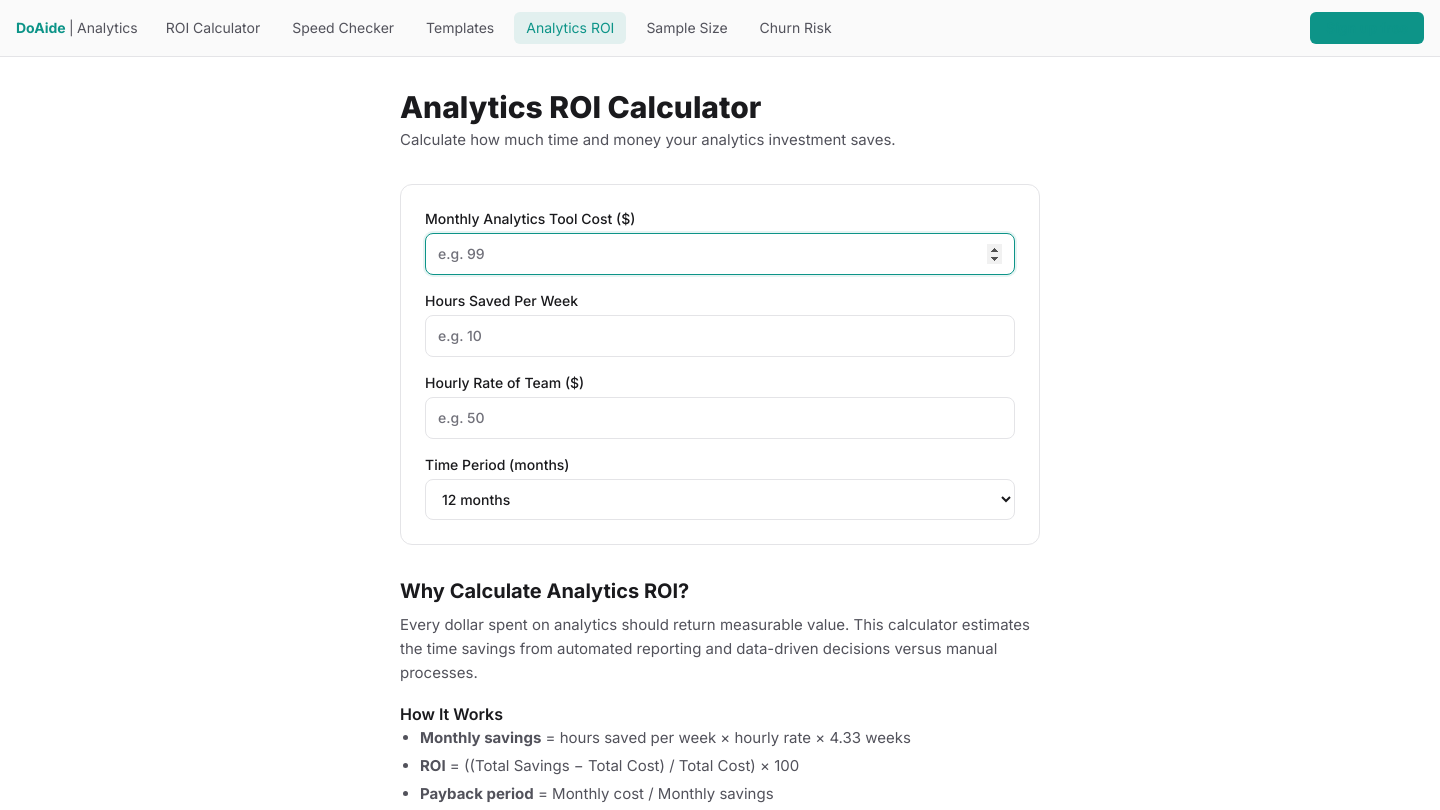
Test: RoiCalculator › shows results when valid inputs are provided
Type "100" into the number field labelled "Monthly Analytics Tool Cost ($)" at point(720, 254), box [425, 232, 1015, 274]
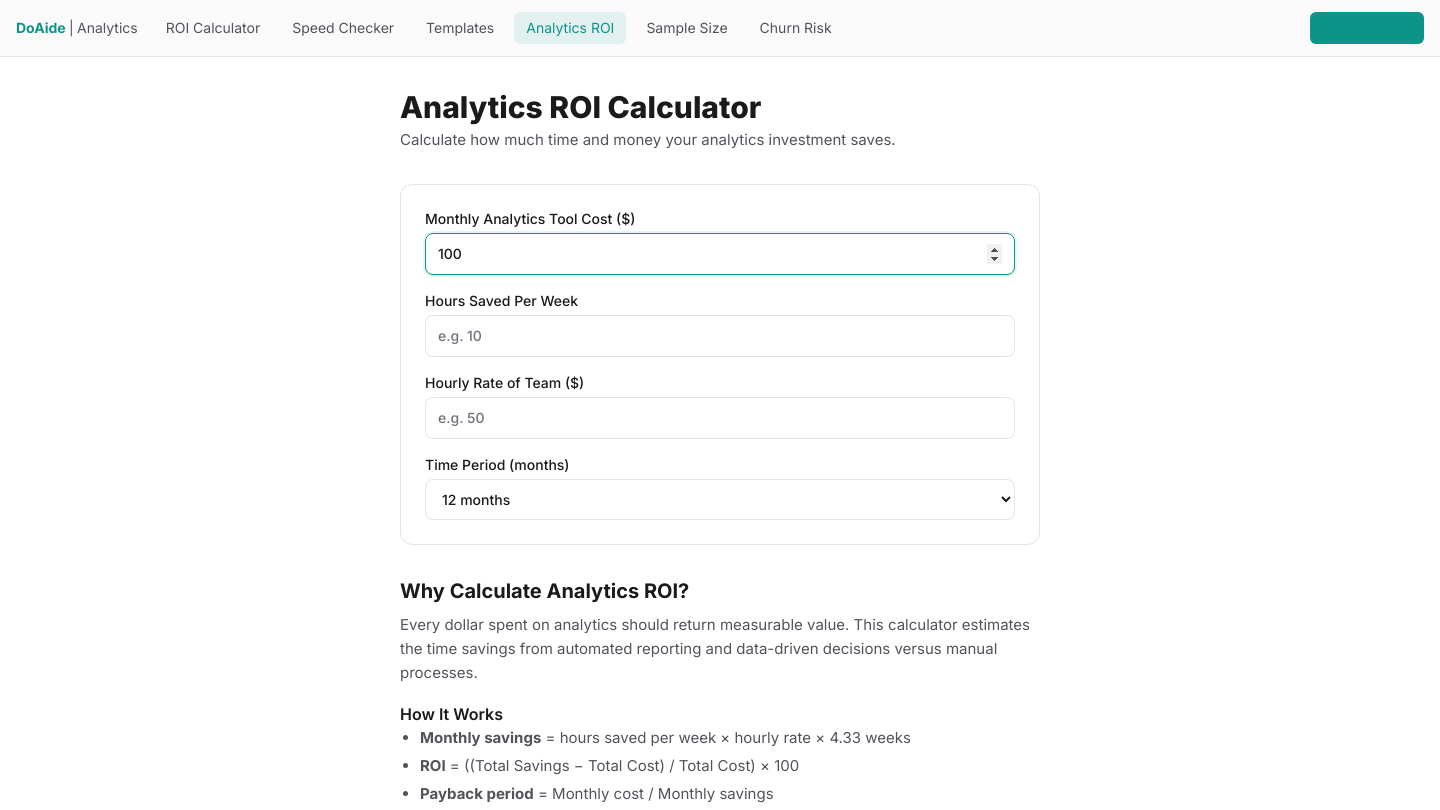
Type "10" into the number field labelled "Hours Saved Per Week" at point(720, 336), box [425, 314, 1015, 356]
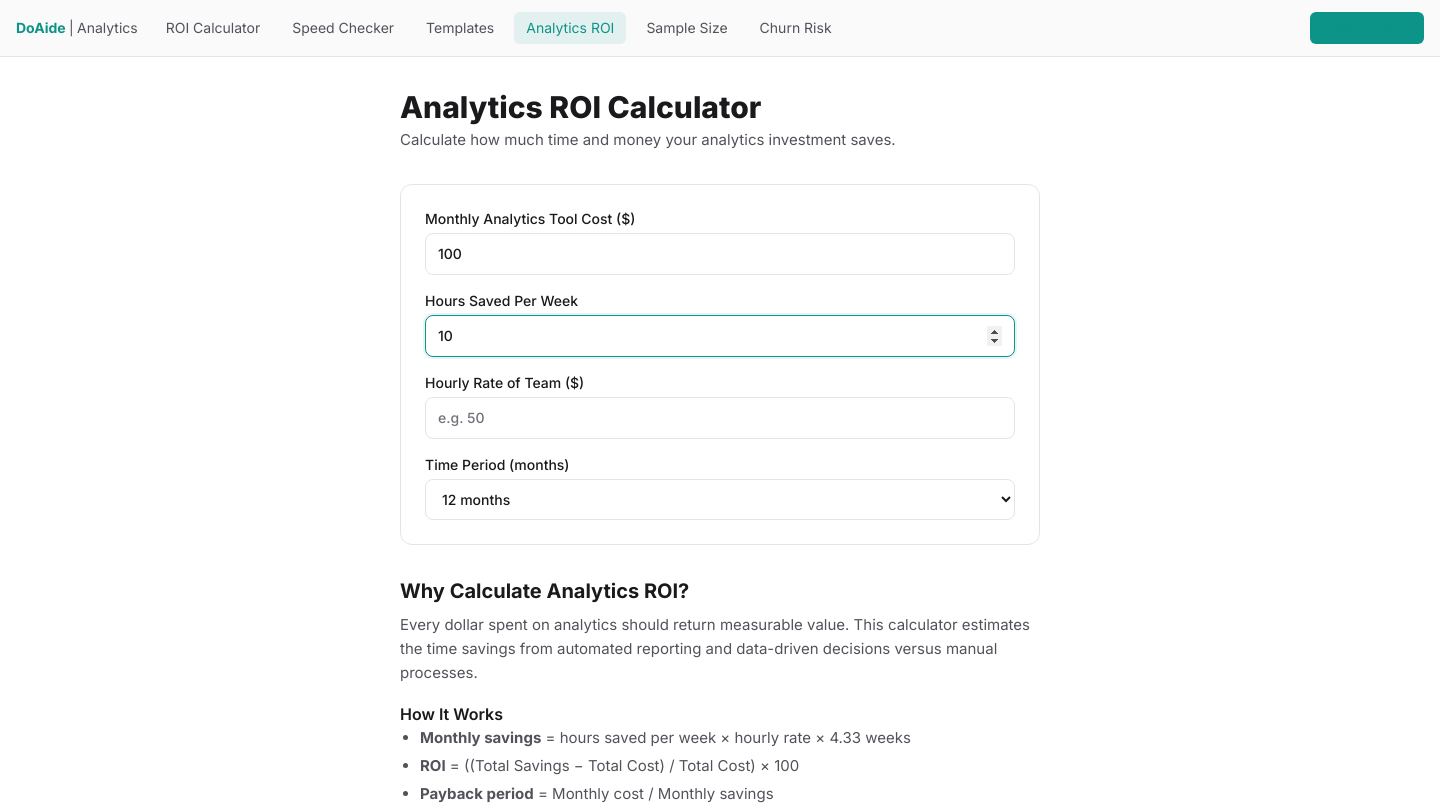
Type "50" into the number field labelled "Hourly Rate of Team ($)" at point(720, 418), box [425, 396, 1015, 438]
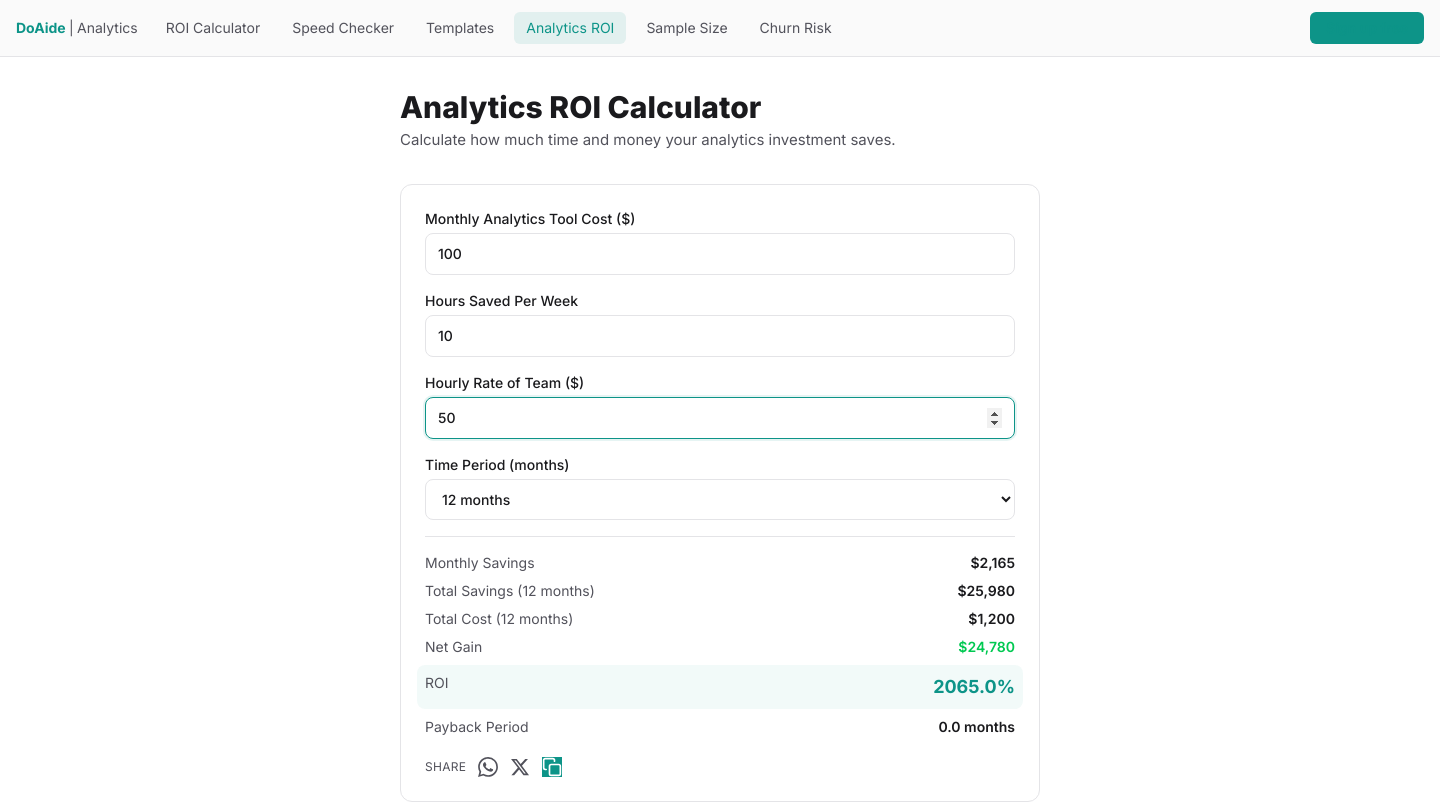
Check: the text "Monthly Savings" is shown, box [425, 552, 535, 572]
Check: the text "Payback Period" is shown, box [425, 716, 528, 736]
Check: the text "Net Gain" is shown, box [425, 636, 482, 656]
